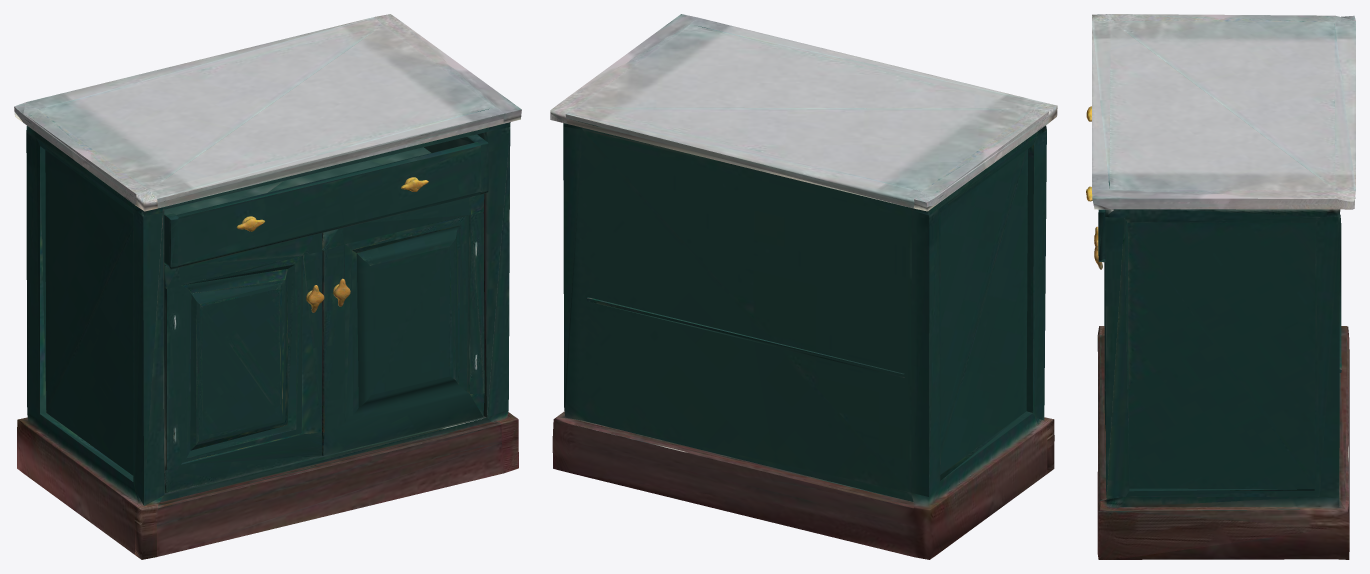
The model's file is kitchen-counter.glb.
3 renders of one model, left to right at view 1: azimuth 30°, elevation 25°; view 2: azimuth 150°, elevation 25°; view 3: azimuth 270°, elevation 25°, orthographic.
Size of the model in its own units: 1 by 0.92 by 0.62.
Materials: 1 (1 with a texture image).
